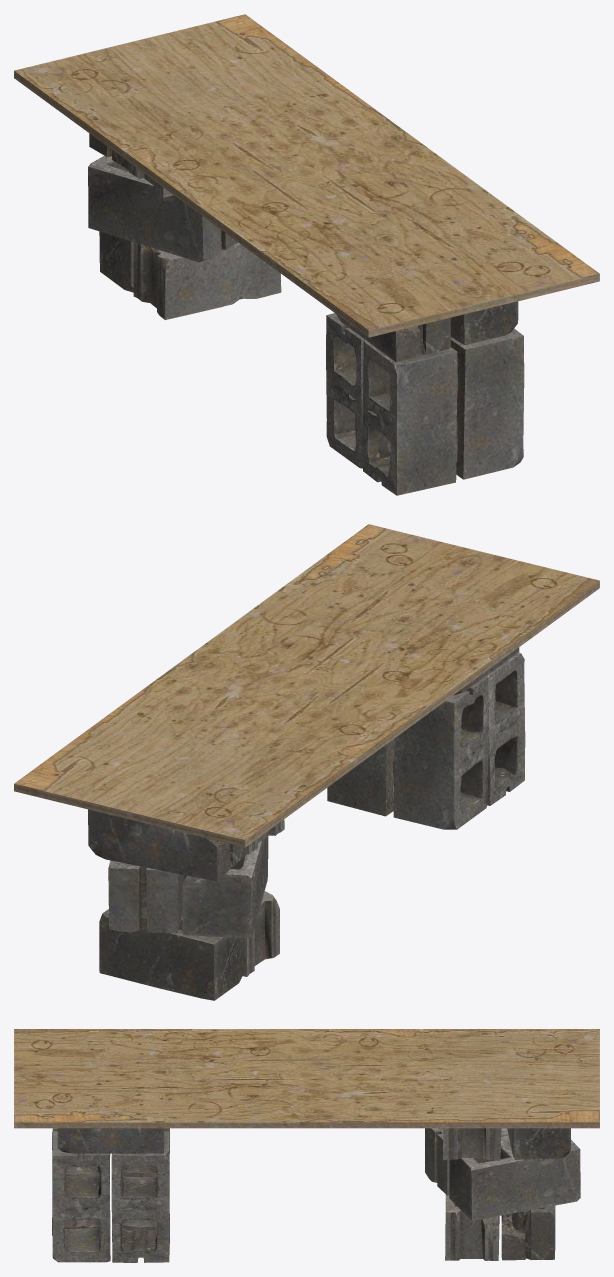
File: makeshift_coffee_table.glb
3 renders of one model, top to bottom at view 1: azimuth 30°, elevation 25°; view 2: azimuth 150°, elevation 25°; view 3: azimuth 270°, elevation 25°, orthographic. The views are drawn at different scales.
Visible parts, largest first — view 1: Makeshift_Coffee_Table; view 2: Makeshift_Coffee_Table; view 3: Makeshift_Coffee_Table.
Part boxes in pixels (box(x1,y1,x2,y2)): Makeshift_Coffee_Table: box(14, 14, 599, 495); Makeshift_Coffee_Table: box(14, 524, 599, 1000); Makeshift_Coffee_Table: box(14, 1029, 599, 1262).
Bounding box in the file's own units: 0.8 × 0.6494 × 2.13.
Materials: 1 (1 with a texture image).
